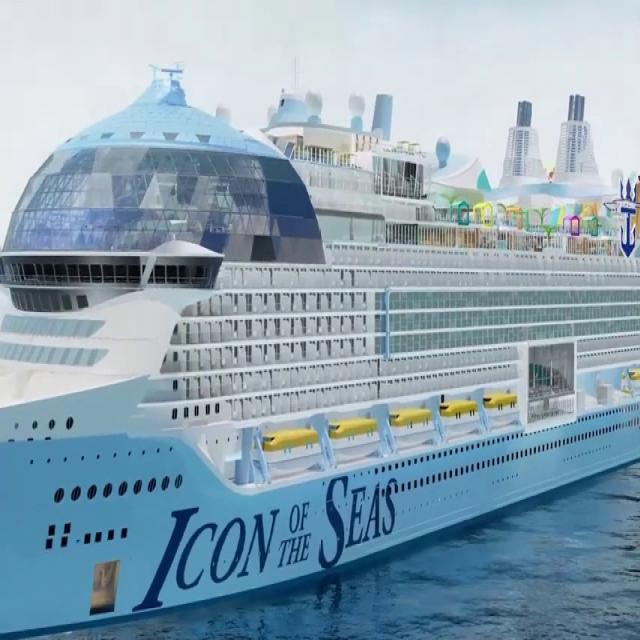passenger ship: (22, 92, 628, 607)
